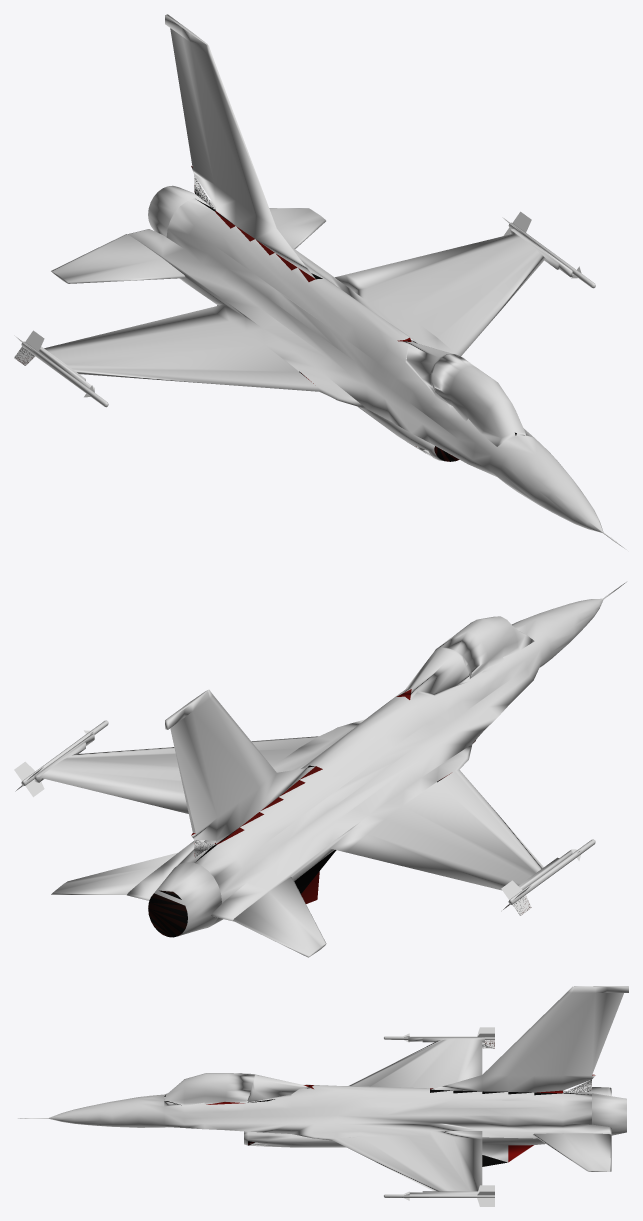
The picture shows the model from 3 angles, top to bottom: view 1: azimuth 30°, elevation 25°; view 2: azimuth 150°, elevation 25°; view 3: azimuth 270°, elevation 25°; orthographic projection. The views are drawn at different scales.
Size of the model in its own units: 0.6006 by 0.2932 by 0.95.
